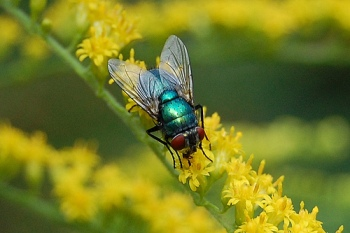green bottles fly: (101, 25, 226, 191)
